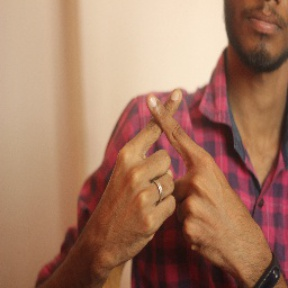X: (115, 77, 220, 188)
